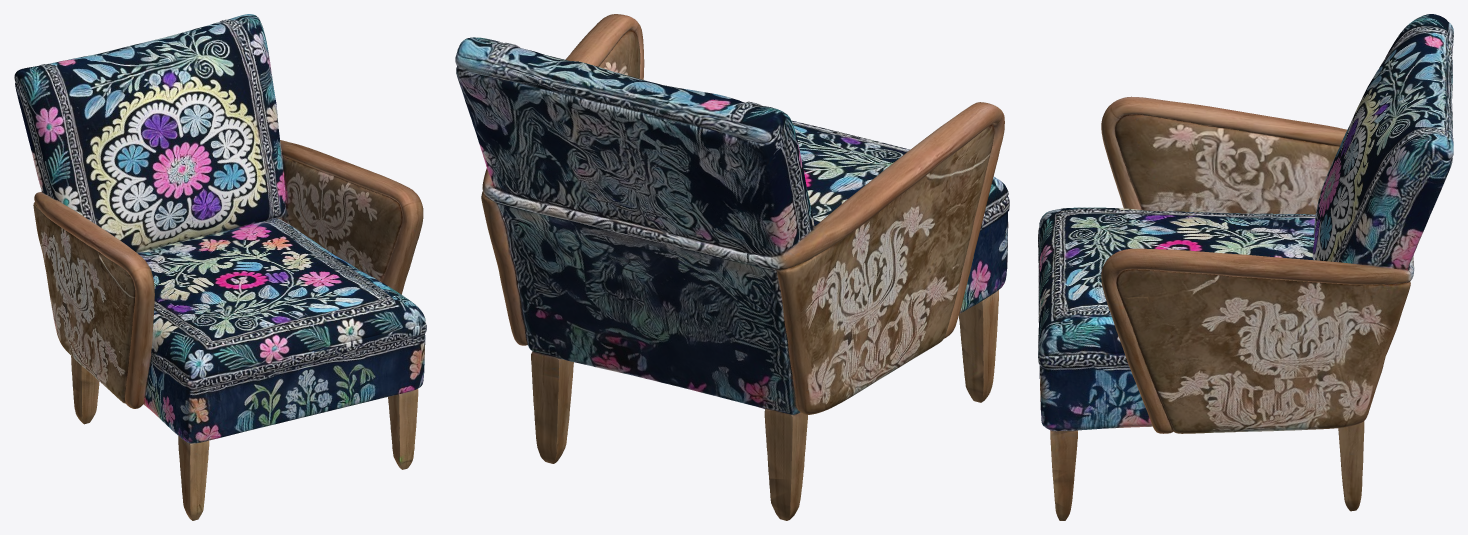
3 views of the same model, side by side, from view 1: azimuth 30°, elevation 25°; view 2: azimuth 150°, elevation 25°; view 3: azimuth 270°, elevation 25° (orthographic). The views are drawn at different scales.
Parts seen in each view (by area): view 1: model; view 2: model; view 3: model.
Boxes of the visible parts, x1,y1,x2,y2 form: model: (14,14,426,520); model: (455,14,1009,520); model: (1038,14,1453,520).
Size of the model in its own units: 0.7605 by 0.83 by 0.8181.
Materials: 1 (1 with a texture image).
